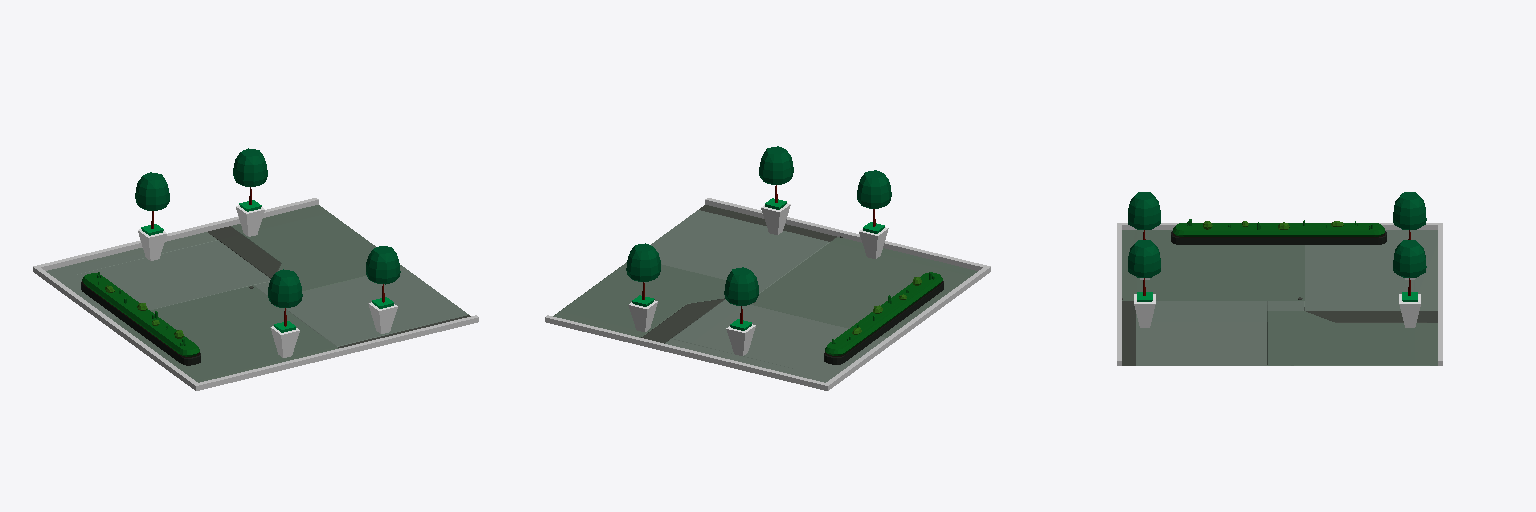
3 views of the same model, side by side, from view 1: azimuth 30°, elevation 25°; view 2: azimuth 150°, elevation 25°; view 3: azimuth 270°, elevation 25° (orthographic).
Visible parts, largest first — view 1: Scifi_Panel_04_Plaza014_group4.039_Scifi_Panel_04_Plaza014_group, Cube.1137_Cube.1266, TreePatch_Plaza014_group3.003_TreePatch_Plaza014_group3.041, base_singlePot03.001_base_singlePot03.033, base_singlePot03.002_base_singlePot03.034, base_singlePot03.003_base_singlePot03.035, base_singlePot03.000_base_singlePot03.032; view 2: Scifi_Panel_04_Plaza014_group4.039_Scifi_Panel_04_Plaza014_group, Cube.1137_Cube.1266, TreePatch_Plaza014_group3.003_TreePatch_Plaza014_group3.041, base_singlePot03.002_base_singlePot03.034, base_singlePot03.003_base_singlePot03.035, base_singlePot03.001_base_singlePot03.033, base_singlePot03.000_base_singlePot03.032; view 3: Scifi_Panel_04_Plaza014_group4.039_Scifi_Panel_04_Plaza014_group, TreePatch_Plaza014_group3.003_TreePatch_Plaza014_group3.041, Cube.1137_Cube.1266, base_singlePot03.000_base_singlePot03.032, base_singlePot03.003_base_singlePot03.035, base_singlePot03.001_base_singlePot03.033, base_singlePot03.002_base_singlePot03.034.
Boxes of the visible parts, box(x1,y1,x2,y2) form: Scifi_Panel_04_Plaza014_group4.039_Scifi_Panel_04_Plaza014_group: box(46, 205, 470, 382); Cube.1137_Cube.1266: box(33, 198, 478, 390); TreePatch_Plaza014_group3.003_TreePatch_Plaza014_group3.041: box(81, 273, 200, 365); base_singlePot03.001_base_singlePot03.033: box(135, 172, 169, 260); base_singlePot03.002_base_singlePot03.034: box(268, 269, 302, 357); base_singlePot03.003_base_singlePot03.035: box(366, 246, 400, 333); base_singlePot03.000_base_singlePot03.032: box(233, 148, 267, 236); Scifi_Panel_04_Plaza014_group4.039_Scifi_Panel_04_Plaza014_group: box(553, 205, 977, 382); Cube.1137_Cube.1266: box(545, 198, 990, 390); TreePatch_Plaza014_group3.003_TreePatch_Plaza014_group3.041: box(824, 272, 943, 364); base_singlePot03.002_base_singlePot03.034: box(857, 170, 891, 258); base_singlePot03.003_base_singlePot03.035: box(759, 146, 793, 234); base_singlePot03.001_base_singlePot03.033: box(724, 267, 758, 355); base_singlePot03.000_base_singlePot03.032: box(626, 243, 660, 331); Scifi_Panel_04_Plaza014_group4.039_Scifi_Panel_04_Plaza014_group: box(1122, 230, 1437, 365); TreePatch_Plaza014_group3.003_TreePatch_Plaza014_group3.041: box(1171, 223, 1386, 244); Cube.1137_Cube.1266: box(1117, 223, 1442, 365); base_singlePot03.000_base_singlePot03.032: box(1393, 240, 1426, 327); base_singlePot03.003_base_singlePot03.035: box(1128, 240, 1160, 327); base_singlePot03.001_base_singlePot03.033: box(1393, 192, 1426, 279); base_singlePot03.002_base_singlePot03.034: box(1128, 192, 1160, 279).
Bounding box in the file's own units: 10 × 2.79 × 10.